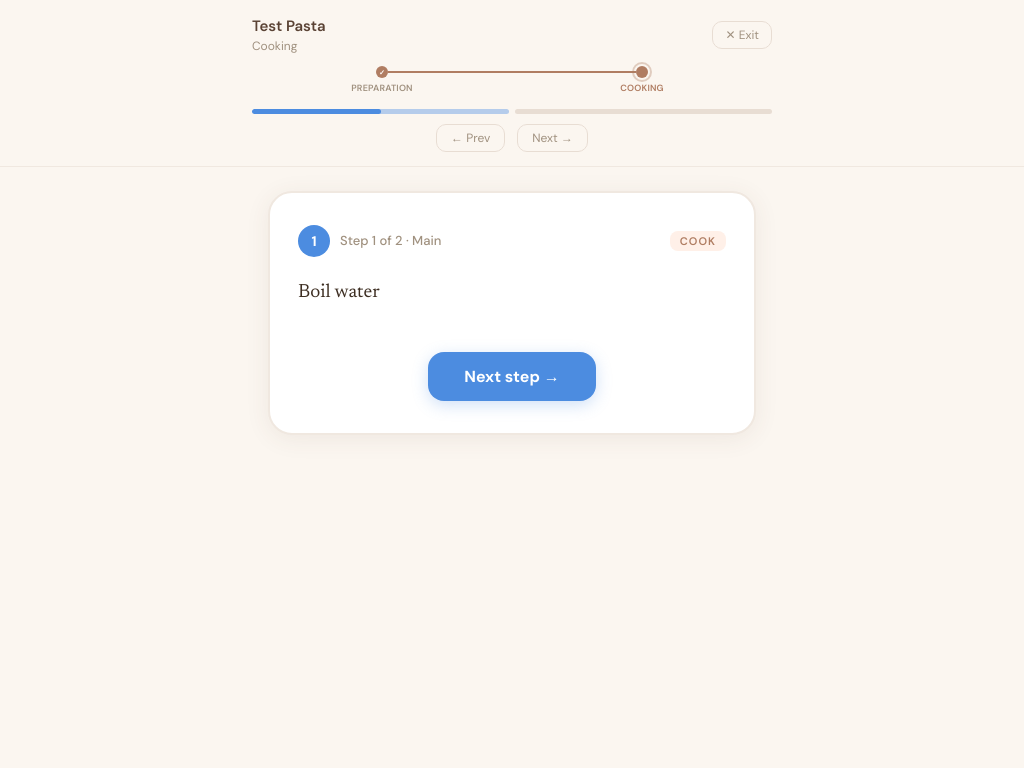
Test: CookingView › stage review › shows past stage step content when a past stage node is clicked
The image size is (1024, 768).
Click the element showing "✓ Preparation".
click(382, 80)  # box [351,66,413,94]
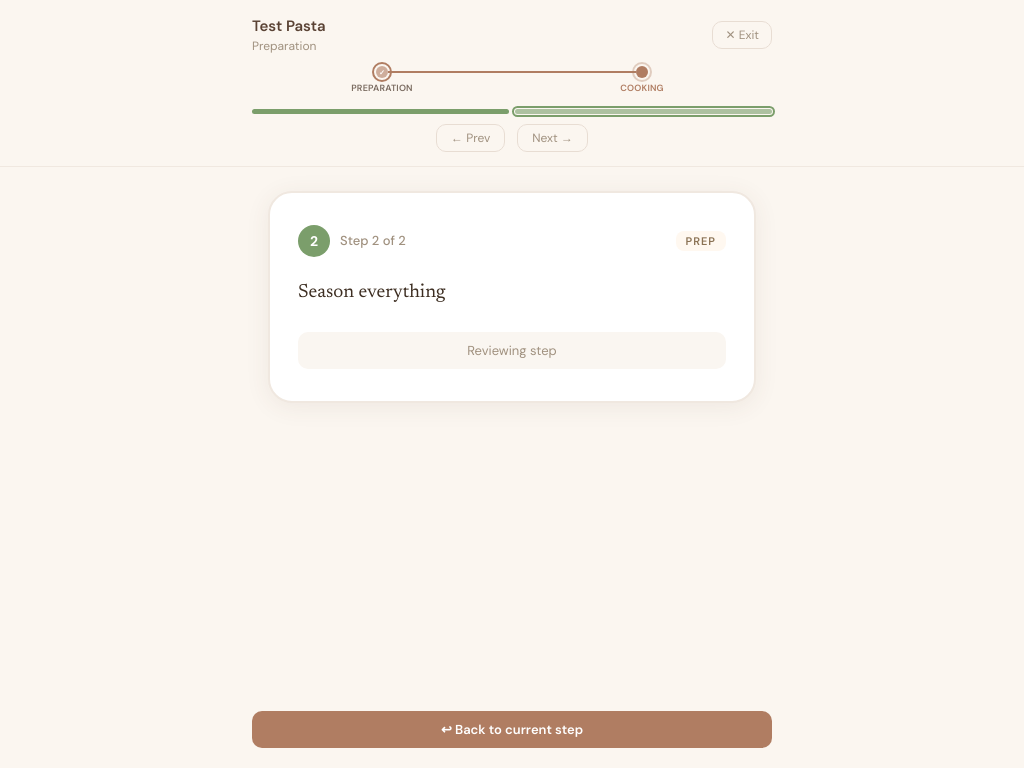
expect the text "Season everything" is shown: met, box [298,283,446,302]
